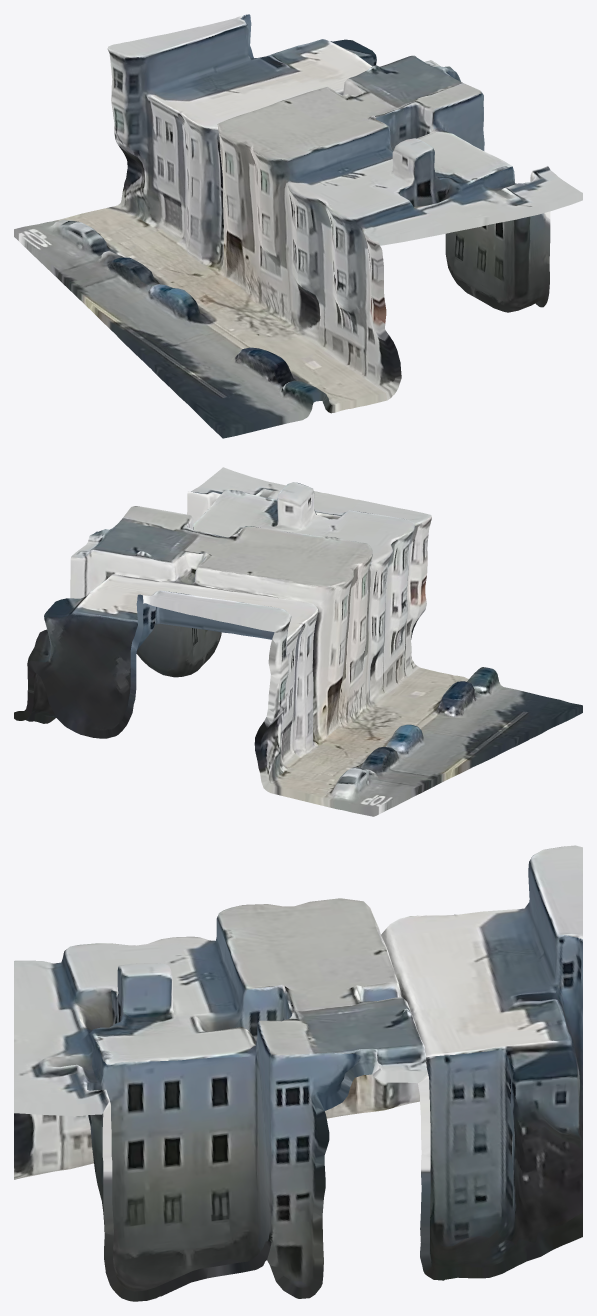
File: z20-167725-405194-h0-yup-uvflip-v3-world.glb
3 renders of one model, top to bottom at view 1: azimuth 30°, elevation 25°; view 2: azimuth 150°, elevation 25°; view 3: azimuth 270°, elevation 25°, orthographic. The views are drawn at different scales.
Size of the model in its own units: 30.16 by 17.52 by 30.32.
Materials: 1 (1 with a texture image).
